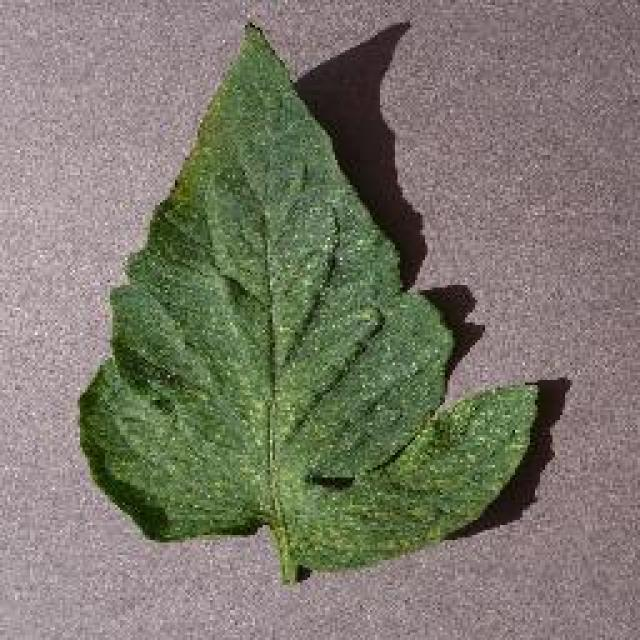Tom_Spider_mites Two-spotted_spider_mite: (166, 166, 376, 499)
